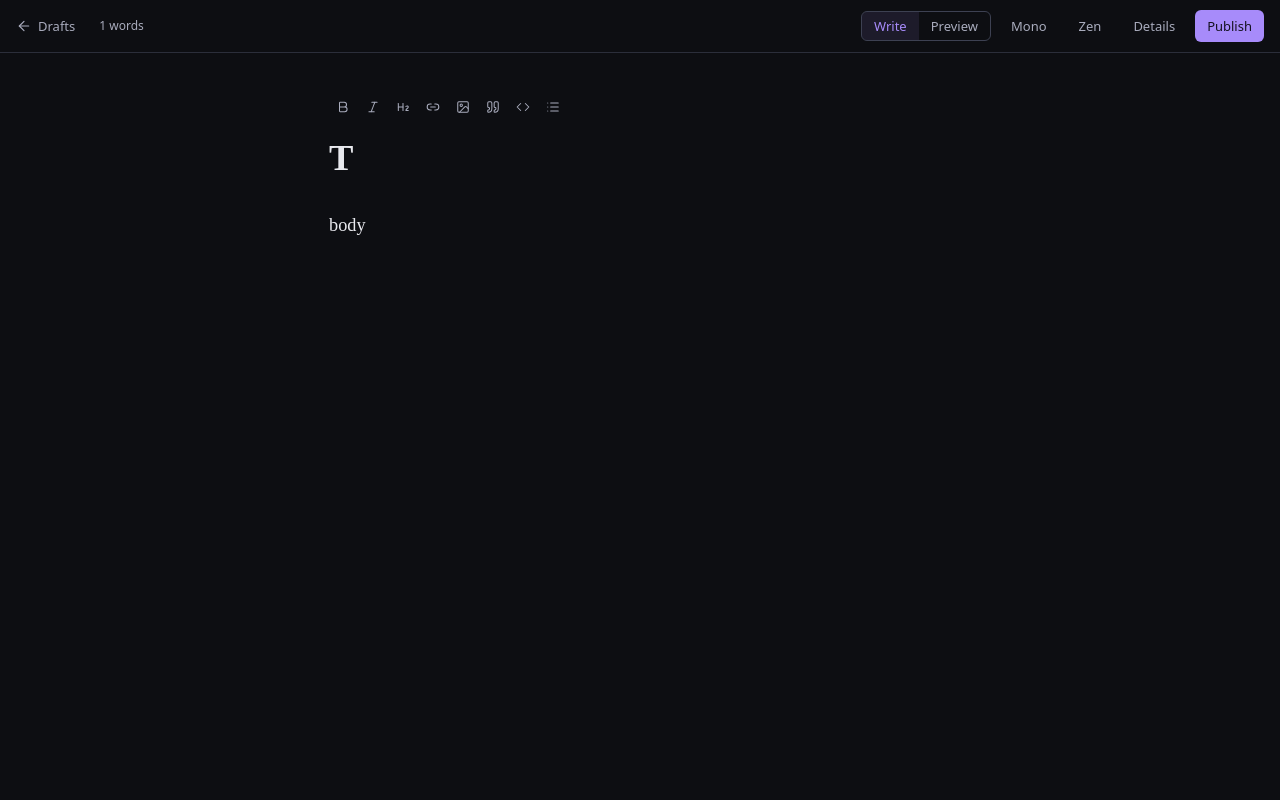
Test: ArticleEditor › the publish sheet › keeps the draft and says why when no relay took it
The image size is (1280, 800).
Click the button "Publish" at (1230, 26), box [1195,10,1264,42]
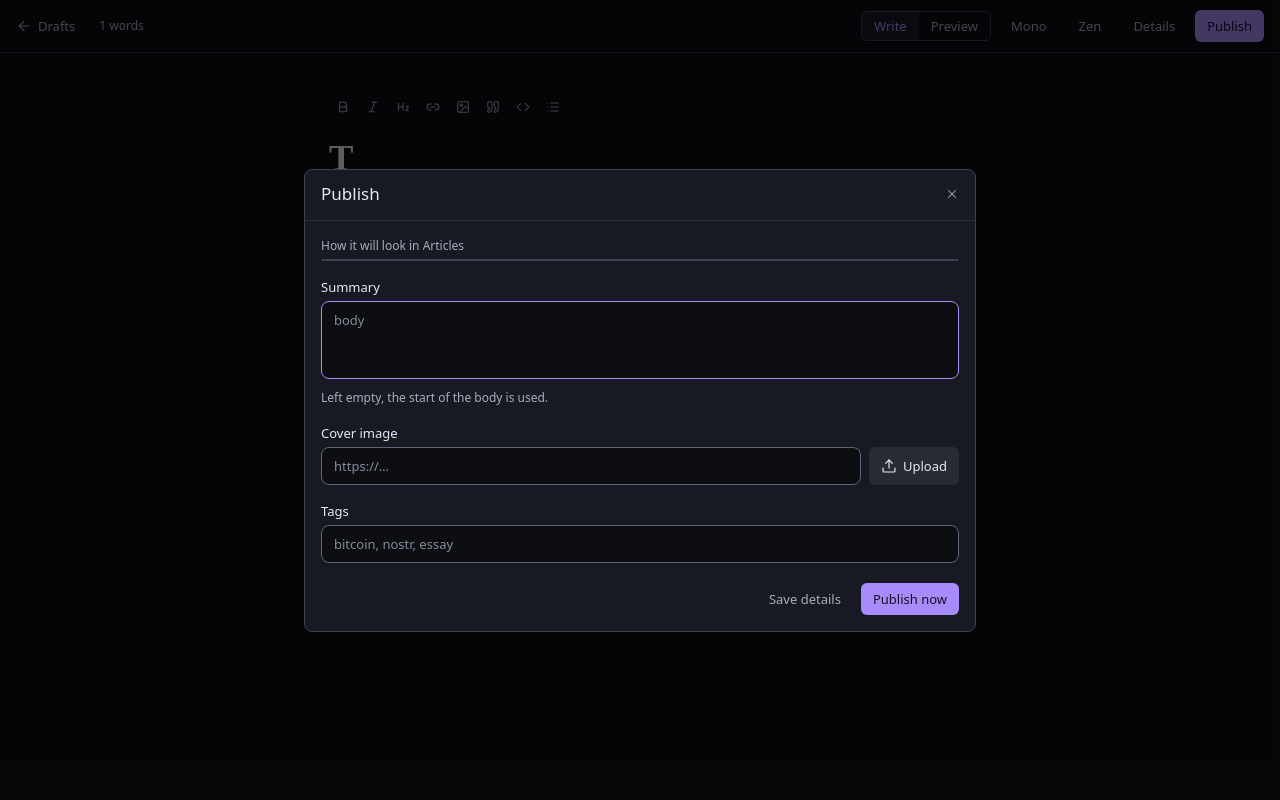
Click the button "Publish now" at (910, 598), box [861,582,959,614]
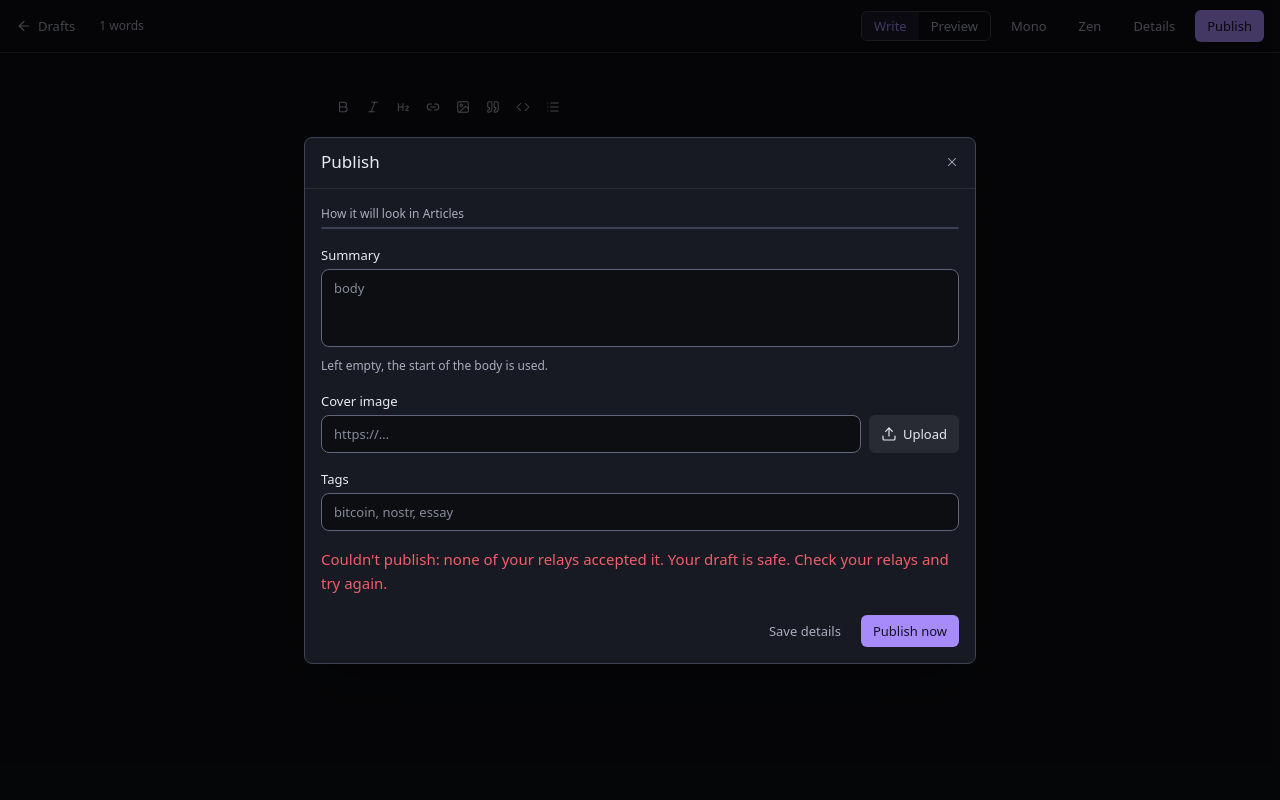
Result: the message shows "Your draft is safe." at [321,548,949,592]
